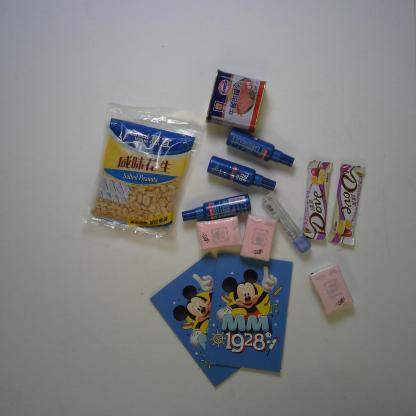Canned Food: (205, 68, 267, 134)
Chocolate: (326, 162, 367, 247), (300, 159, 334, 240)
Dried Fruit: (80, 102, 208, 244)
Personal Hygiene: (226, 128, 296, 168), (206, 155, 276, 191), (181, 193, 252, 222)
Stationery: (148, 252, 242, 388), (203, 251, 294, 374), (261, 192, 312, 254)
Tissue: (309, 263, 355, 314), (238, 212, 278, 262), (196, 214, 242, 250)
